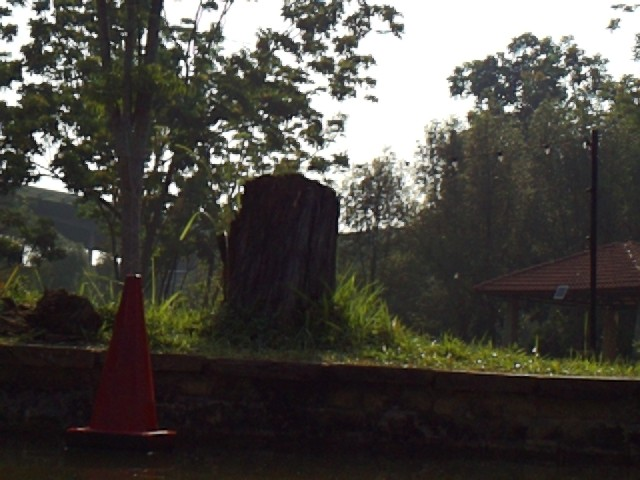obstacle: (67, 274, 177, 447)
